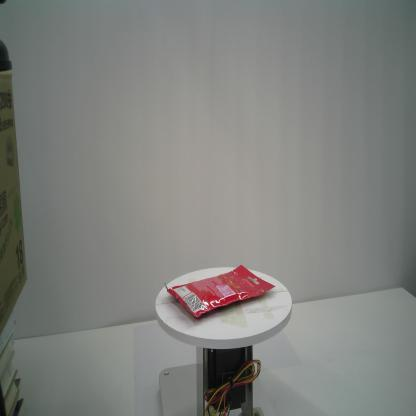Candy: (160, 262, 274, 323)
